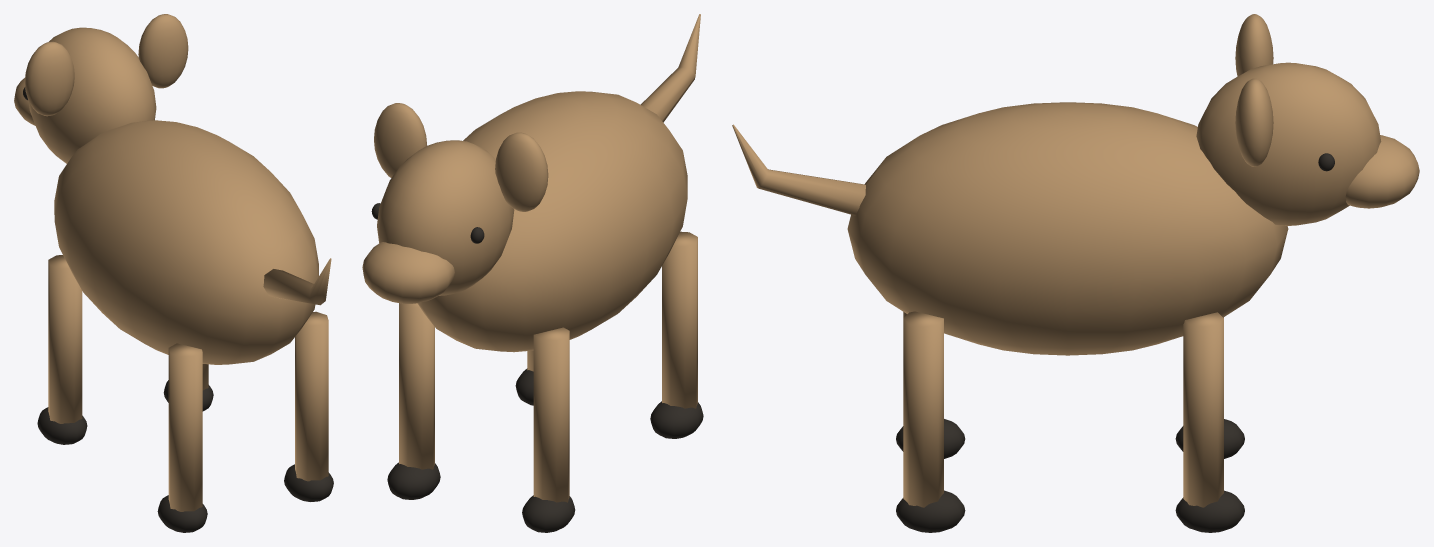
Rendered from dog.glb.
The picture shows the model from 3 angles, left to right: view 1: azimuth 30°, elevation 25°; view 2: azimuth 150°, elevation 25°; view 3: azimuth 270°, elevation 25°; orthographic projection. The views are drawn at different scales.
Visible parts, largest first — view 1: Dog_Geometry, AnimalHead.002_Geometry, AnimalLeg.009_Geometry, AnimalLeg.008_Geometry, AnimalLeg.011_Geometry, AnimalLeg.010_Geometry; view 2: Dog_Geometry, AnimalHead.002_Geometry, AnimalLeg.008_Geometry, AnimalLeg.009_Geometry, AnimalLeg.010_Geometry, AnimalLeg.011_Geometry; view 3: Dog_Geometry, AnimalHead.002_Geometry, AnimalLeg.011_Geometry, AnimalLeg.010_Geometry, AnimalLeg.009_Geometry.
Boxes of the visible parts, box(x1,y1,x2,y2) form: Dog_Geometry: box(54, 120, 331, 364); AnimalHead.002_Geometry: box(14, 14, 188, 163); AnimalLeg.009_Geometry: box(157, 343, 207, 532); AnimalLeg.008_Geometry: box(37, 255, 87, 444); AnimalLeg.011_Geometry: box(284, 311, 333, 501); AnimalLeg.010_Geometry: box(163, 364, 213, 411); Dog_Geometry: box(417, 14, 700, 352); AnimalHead.002_Geometry: box(362, 103, 548, 303); AnimalLeg.008_Geometry: box(522, 327, 575, 532); AnimalLeg.009_Geometry: box(650, 231, 703, 438); AnimalLeg.010_Geometry: box(387, 303, 440, 499); AnimalLeg.011_Geometry: box(515, 350, 533, 405); Dog_Geometry: box(732, 102, 1288, 355); AnimalHead.002_Geometry: box(1196, 14, 1419, 225); AnimalLeg.011_Geometry: box(896, 311, 965, 532); AnimalLeg.010_Geometry: box(1175, 312, 1244, 532); AnimalLeg.009_Geometry: box(896, 312, 965, 458).
Size of the model in its own units: 0.42 by 0.812 by 1.14.
